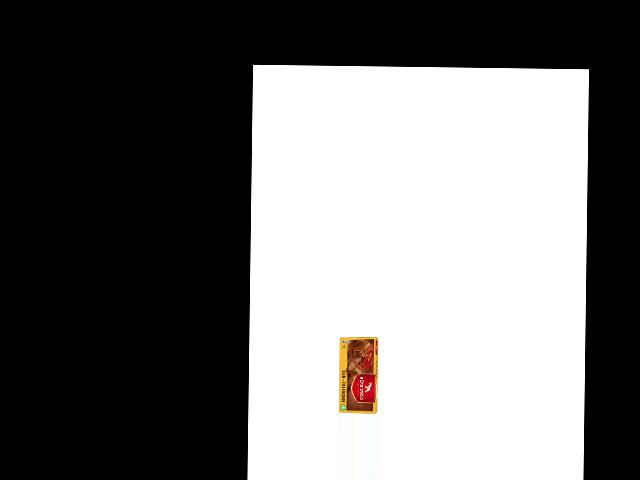chocolate: (332, 335, 380, 413)
